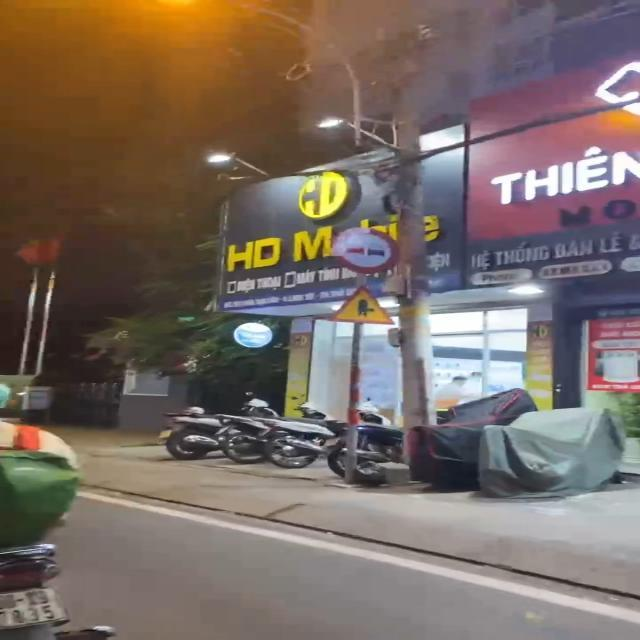125-cam-vuot: (335, 226, 400, 274)
207-giao-nhau-voi-duong-khong-uu-tien: (330, 286, 394, 326)
